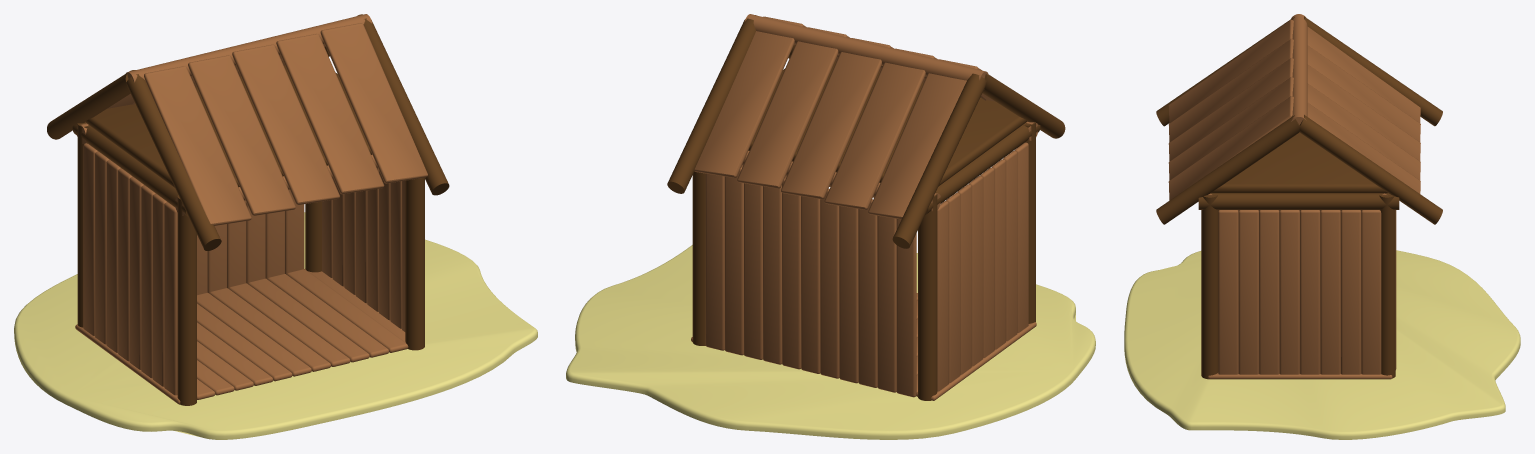
Rendered from exchange shop  with base.fbx.
The picture shows the model from 3 angles, left to right: view 1: azimuth 30°, elevation 25°; view 2: azimuth 150°, elevation 25°; view 3: azimuth 270°, elevation 25°; orthographic projection. The views are drawn at different scales.
Visible parts, largest first — view 1: BezierCurve.004; view 2: BezierCurve.004; view 3: BezierCurve.004.
Part boxes in pixels (x1,y1,x2,y2): BezierCurve.004: (14, 14, 537, 439); BezierCurve.004: (566, 14, 1095, 439); BezierCurve.004: (1124, 14, 1520, 439).
Bounding box in the file's own units: 22373 × 14345 × 19317.
